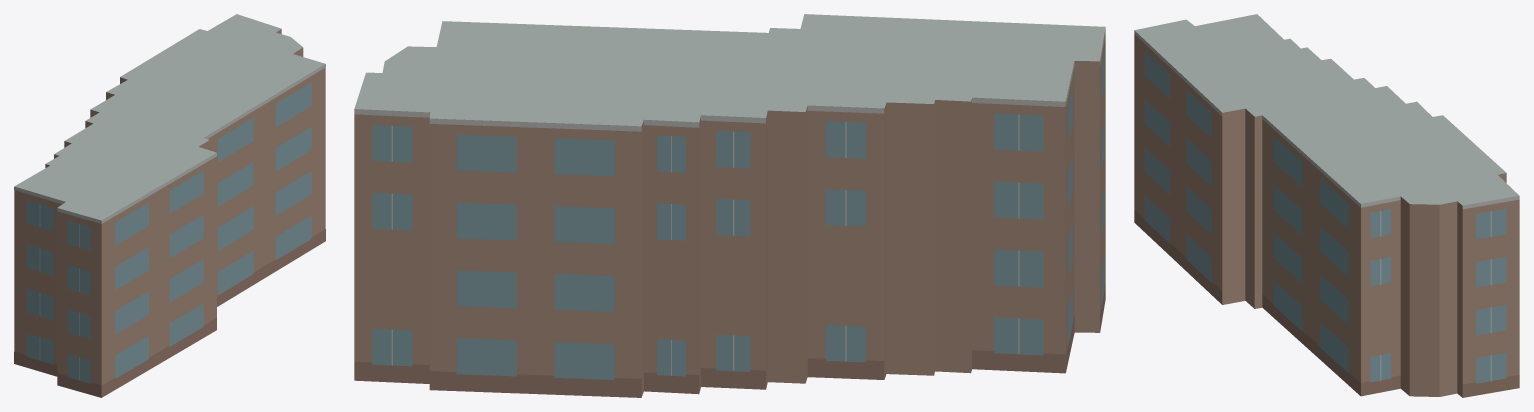
File: survey-upis-32953104.glb
3 views of the same model, side by side, from view 1: azimuth 30°, elevation 25°; view 2: azimuth 150°, elevation 25°; view 3: azimuth 270°, elevation 25° (orthographic). The views are drawn at different scales.
Visible parts, largest first — view 1: survey-upis-32953104.tmp; view 2: survey-upis-32953104.tmp; view 3: survey-upis-32953104.tmp.
Part boxes in pixels (x1=…): survey-upis-32953104.tmp: x1=14, y1=14, x2=325, y2=397; survey-upis-32953104.tmp: x1=354, y1=14, x2=1105, y2=397; survey-upis-32953104.tmp: x1=1134, y1=14, x2=1519, y2=397.
Bounding box in the file's own units: 26.51 × 12.4 × 22.53.
